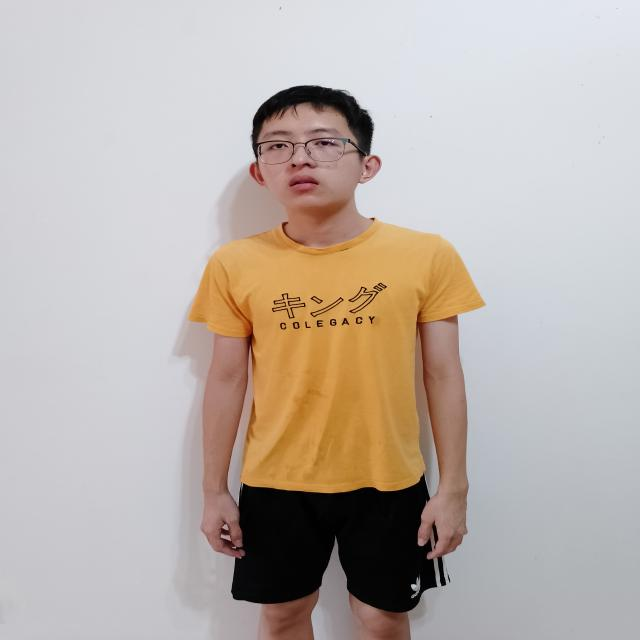person_without_labcoat: (189, 86, 484, 640)
